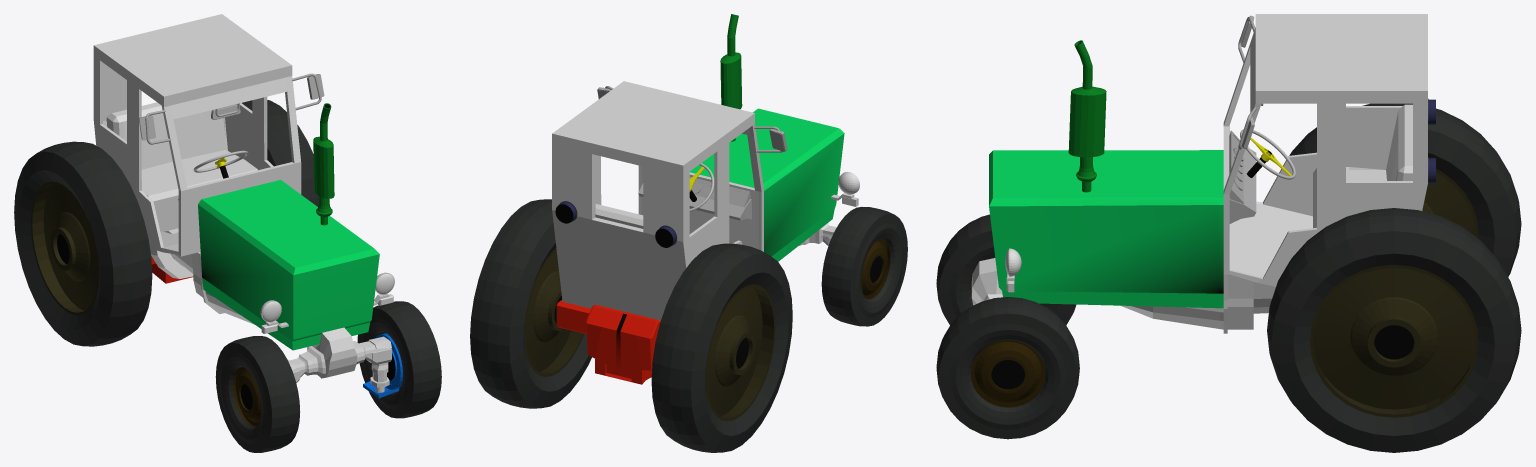
File: Tractor.fbx
The picture shows the model from 3 angles, left to right: view 1: azimuth 30°, elevation 25°; view 2: azimuth 150°, elevation 25°; view 3: azimuth 270°, elevation 25°; orthographic projection. The views are drawn at different scales.
Visible parts, largest first — view 1: polySurface18, BackWheelsRight, polySurface15, ForwardRightWheel, polySurface17, ForwardLeftWheel1, polySurface7, BackWheelsLeft, polySurface6, polySurface14, polySurface26; view 2: polySurface18, BackWheelsRight, BackWheelsLeft, polySurface15, ForwardRightWheel, polySurface13, polySurface6, Panel, polySurface17; view 3: BackWheelsLeft, polySurface18, polySurface15, ForwardLeftWheel1, BackWheelsRight, ForwardRightWheel, polySurface14, polySurface6, polySurface17, Panel, polySurface7.
Part boxes in pixels (box(x1,y1,x2,y2)): polySurface18: box(93, 14, 301, 256); BackWheelsRight: box(14, 141, 152, 346); polySurface15: box(198, 180, 379, 350); ForwardRightWheel: box(215, 336, 300, 452); polySurface17: box(106, 102, 257, 232); ForwardLeftWheel1: box(357, 301, 441, 418); polySurface7: box(288, 327, 392, 387); BackWheelsLeft: box(242, 100, 318, 206); polySurface6: box(313, 103, 334, 225); polySurface14: box(150, 228, 254, 324); polySurface26: box(363, 333, 402, 398); polySurface18: box(552, 81, 763, 320); BackWheelsRight: box(651, 243, 792, 452); BackWheelsLeft: box(470, 199, 591, 408); polySurface15: box(690, 108, 844, 261); ForwardRightWheel: box(821, 207, 907, 326); polySurface13: box(556, 300, 660, 384); polySurface6: box(720, 14, 742, 141); Panel: box(638, 177, 752, 220); polySurface17: box(595, 204, 643, 228); BackWheelsLeft: box(1267, 208, 1521, 452); polySurface18: box(1223, 14, 1427, 286); polySurface15: box(989, 150, 1223, 308); ForwardLeftWheel1: box(936, 297, 1079, 439); BackWheelsRight: box(1289, 103, 1521, 276); ForwardRightWheel: box(936, 214, 1076, 325); polySurface14: box(1121, 274, 1275, 333); polySurface6: box(1068, 40, 1106, 192); polySurface17: box(1313, 104, 1412, 228); Panel: box(1229, 130, 1256, 223); polySurface7: box(971, 258, 1002, 305).
Bounding box in the file's own units: 219 × 278 × 401.
